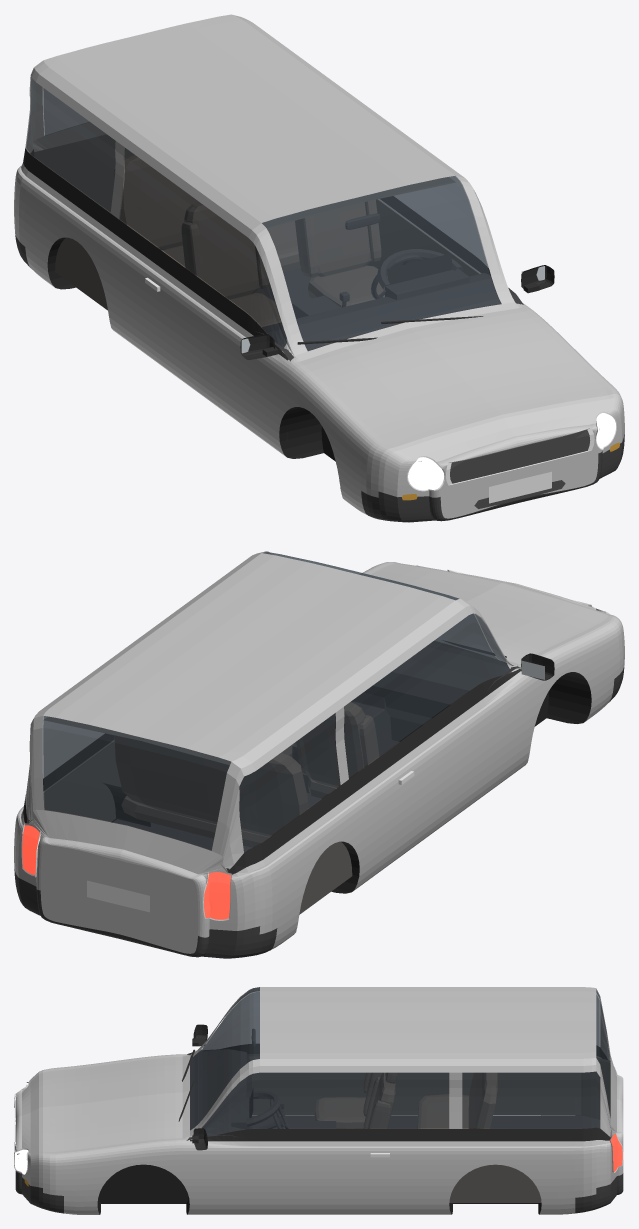
Rendered from car_brick.fbx.
The picture shows the model from 3 angles, top to bottom: view 1: azimuth 30°, elevation 25°; view 2: azimuth 150°, elevation 25°; view 3: azimuth 270°, elevation 25°; orthographic projection. The views are drawn at different scales.
Parts seen in each view (by area): view 1: brick__roof, brick__glass, brick__hood, brick__seats, brick__doorR, brick__interior, brick__cabin, brick__pillars, brick__fenderFR, brick__quarterR, brick__seals, brick__fascia (+9 smaller); view 2: brick__roof, brick__glass, brick__seats, brick__doorR, brick__rearPanel, brick__hood, brick__quarterR, brick__interior, brick__pillars, brick__trunk, brick__cabin, brick__seals (+6 smaller); view 3: brick__glass, brick__roof, brick__doorL, brick__hood, brick__cabin, brick__quarterL, brick__interior, brick__fenderFL, brick__seats, brick__seals, brick__pillars, brick__wells (+5 smaller).
Boxes of the visible parts, box(x1,y1,x2,y2) form: brick__roof: box(34, 14, 464, 229); brick__glass: box(26, 77, 500, 350); brick__hood: box(292, 306, 615, 468); brick__seats: box(113, 154, 387, 327); brick__doorR: box(118, 244, 284, 454); brick__interior: box(255, 213, 523, 361); brick__cabin: box(30, 134, 478, 441); brick__pillars: box(25, 68, 514, 356); brick__fenderFR: box(275, 359, 429, 514); brick__quarterR: box(14, 162, 127, 338); brick__seals: box(23, 148, 490, 360); brick__fascia: box(429, 427, 602, 518); brick__roof: box(34, 553, 464, 768); brick__glass: box(42, 552, 510, 851); brick__seats: box(114, 702, 379, 847); brick__doorR: box(362, 672, 529, 882); brick__rearPanel: box(36, 839, 209, 953); brick__hood: box(360, 562, 615, 664); brick__quarterR: box(204, 787, 371, 949); brick__interior: box(113, 643, 520, 852); brick__pillars: box(25, 551, 519, 869); brick__trunk: box(29, 639, 521, 882); brick__cabin: box(27, 665, 518, 914); brick__seals: box(23, 669, 521, 874); brick__glass: box(190, 987, 609, 1136); brick__roof: box(260, 987, 596, 1065); brick__doorL: box(194, 1141, 432, 1214); brick__hood: box(15, 1054, 182, 1156); brick__cabin: box(189, 1054, 611, 1202); brick__quarterL: box(432, 1140, 616, 1214); brick__interior: box(186, 1028, 600, 1140); brick__fenderFL: box(22, 1141, 193, 1214); brick__seats: box(314, 1072, 497, 1128); brick__seals: box(190, 1043, 610, 1141); brick__pillars: box(190, 987, 610, 1139); brick__wells: box(97, 1164, 541, 1214).
Bounding box in the file's own units: 2.12 × 1.31 × 4.78.
